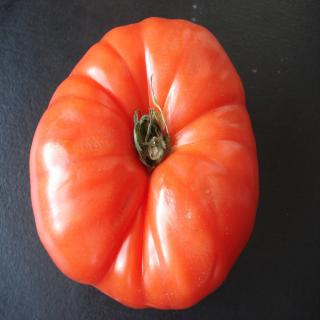tomato: (42, 26, 269, 316)
